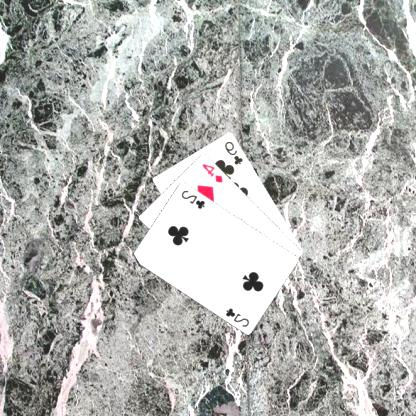2C: (180, 187, 208, 211), (224, 305, 253, 328)
4D: (201, 161, 226, 183)
9C: (224, 138, 246, 166)
